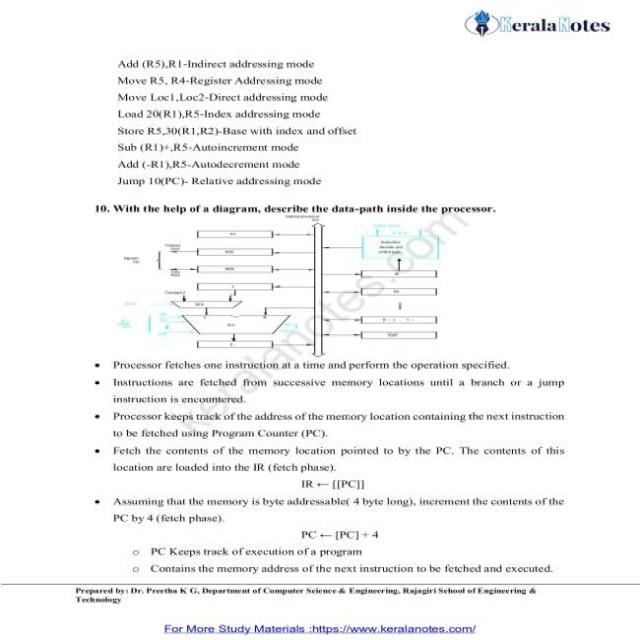Figure Detection - v3 Dataset Version2: (113, 212, 467, 360)
